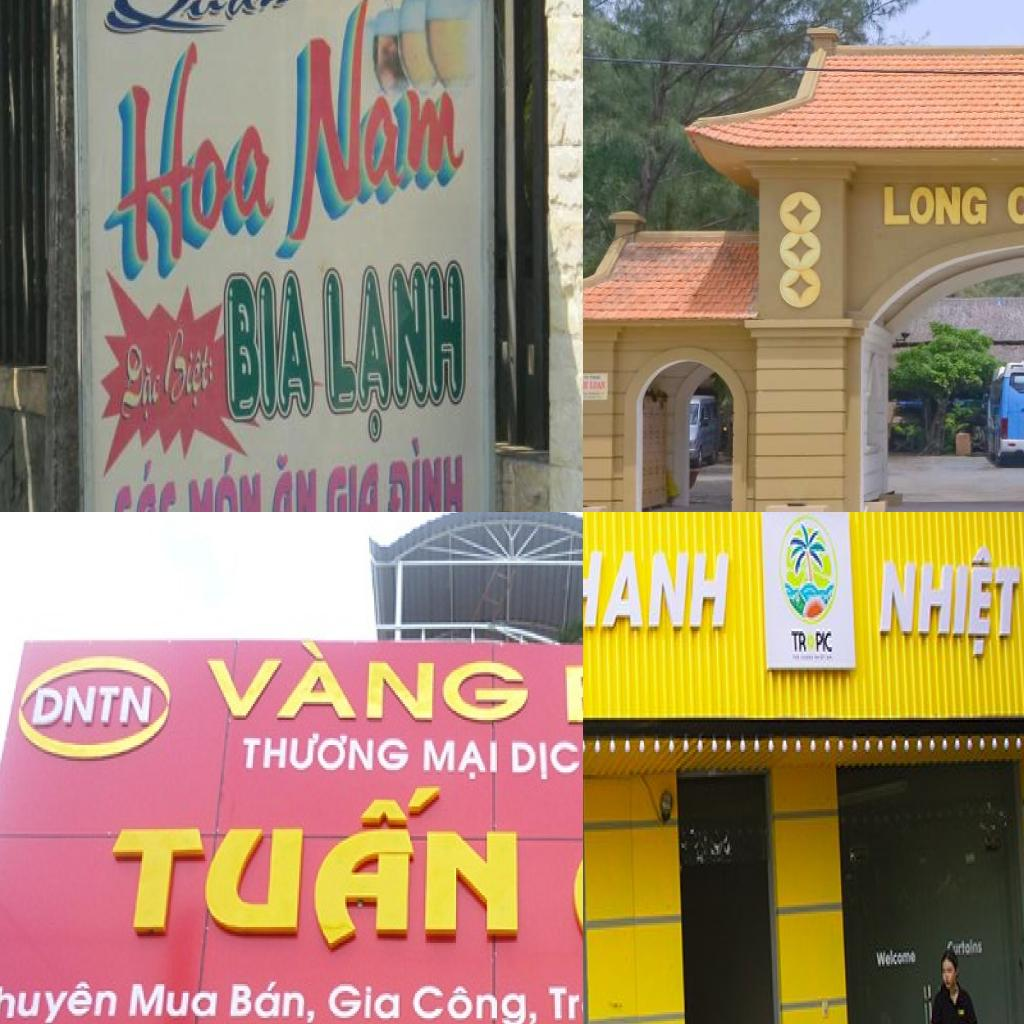text: (96, 784, 524, 961), (275, 0, 478, 264), (86, 40, 280, 291), (197, 636, 531, 731), (317, 254, 470, 452), (875, 544, 1024, 669), (222, 271, 318, 424), (583, 540, 732, 638), (238, 729, 414, 777), (96, 0, 299, 40), (384, 432, 470, 512), (31, 684, 157, 732), (0, 977, 123, 1024), (409, 981, 541, 1024), (880, 182, 991, 230), (184, 449, 264, 512), (164, 324, 219, 412), (106, 455, 181, 512), (225, 979, 319, 1024), (420, 736, 502, 786), (126, 982, 220, 1024), (120, 339, 162, 428), (264, 448, 321, 512), (324, 979, 403, 1024), (509, 740, 583, 785), (326, 455, 381, 512), (544, 984, 583, 1024), (873, 944, 918, 976), (790, 629, 809, 656), (816, 628, 832, 652), (589, 380, 607, 390), (583, 381, 589, 389)
